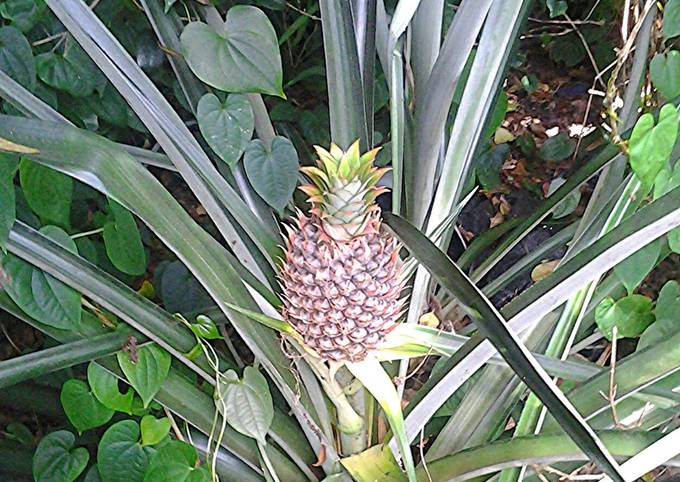pineapple: (288, 177, 439, 371)
